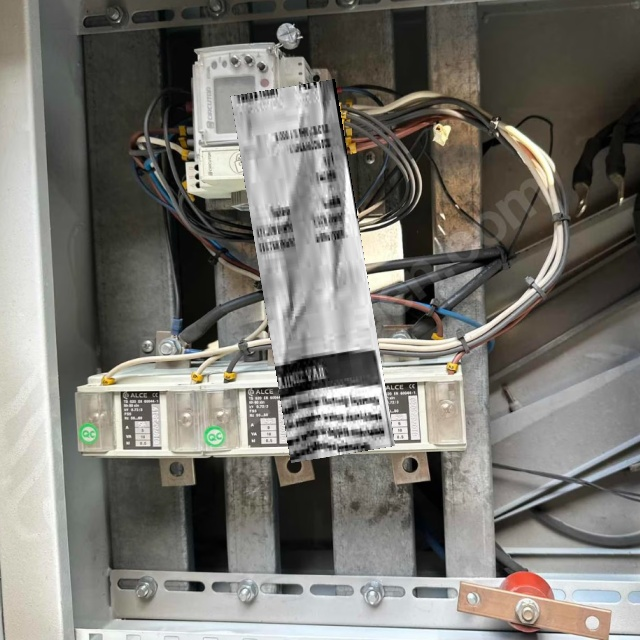electricity-bill: (230, 78, 394, 462)
